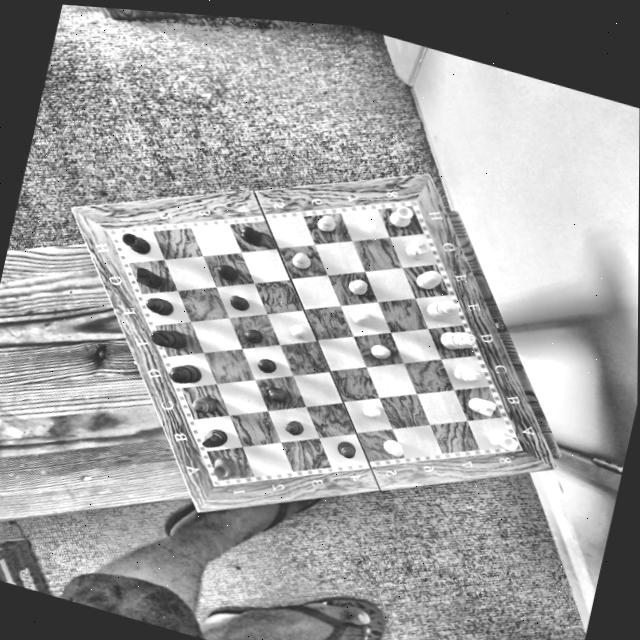black-bishop: (184, 387, 221, 422), (139, 291, 178, 321)
black-king: (145, 320, 190, 358)
black-knight: (128, 262, 170, 294), (194, 423, 232, 454)
black-pawn: (233, 220, 266, 249), (211, 259, 245, 287), (331, 436, 360, 466), (279, 414, 308, 442), (224, 289, 253, 316), (252, 353, 280, 380), (263, 383, 288, 407), (239, 325, 264, 347)
black-queen: (163, 355, 205, 394)
black-rook: (116, 226, 154, 260), (203, 451, 238, 483)
white-bishop: (409, 263, 447, 296), (446, 360, 484, 390)
white-king: (434, 323, 478, 358)
white-knight: (460, 391, 501, 421), (400, 232, 432, 265)
white-pawn: (374, 432, 407, 462), (312, 210, 340, 239), (286, 247, 315, 274), (343, 274, 371, 300), (366, 339, 393, 364), (358, 399, 385, 424), (346, 306, 372, 330)
white-queen: (419, 292, 462, 327)
white-rook: (481, 424, 521, 456), (385, 200, 416, 233)
